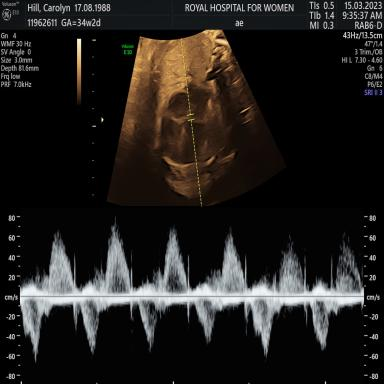Ultrasound-Waves: (24, 212, 362, 384)
